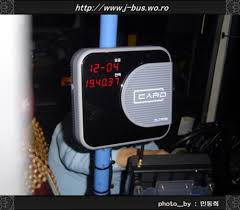terminal: (62, 43, 177, 156)
